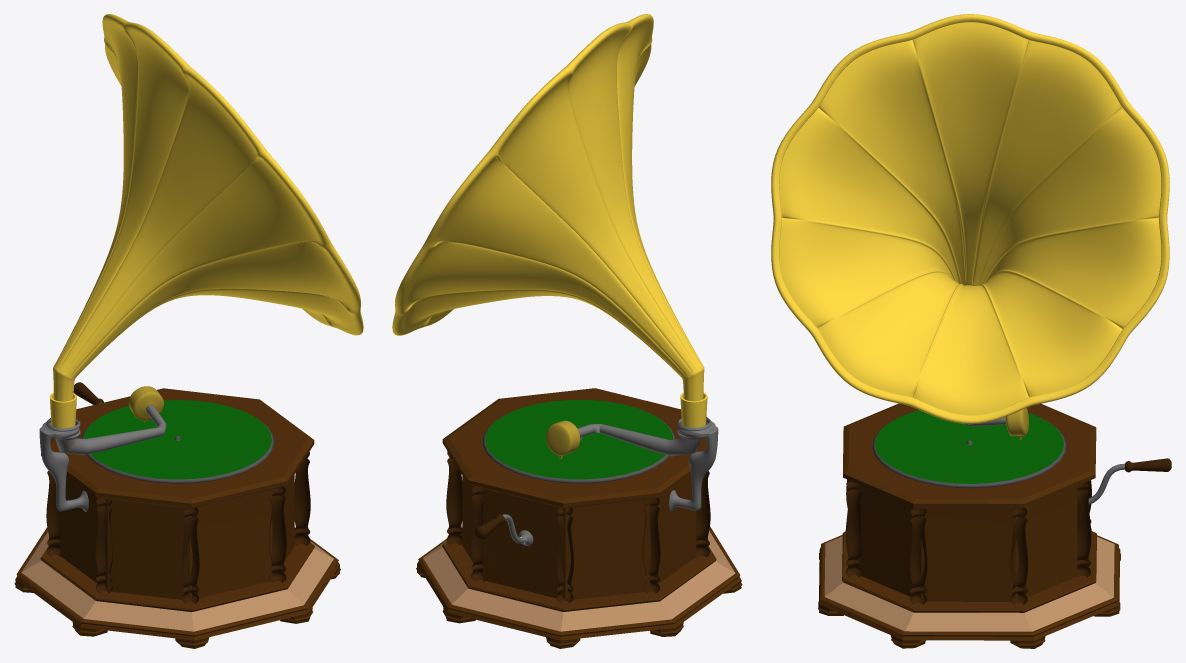
File: gramophone.glb
3 renders of one model, left to right at view 1: azimuth 30°, elevation 25°; view 2: azimuth 150°, elevation 25°; view 3: azimuth 270°, elevation 25°, orthographic.
Parts seen in each view (by area): view 1: tolcser, alap, lemeztarto, lejatszo_2, Circle.009, Circle.011, Circle.008, lejatszo_tu, Circle.015, Circle.014; view 2: tolcser, alap, lemeztarto, lejatszo_2, Circle.010, lejatszo_tu, Circle.014, Circle.012, Circle.013, Circle.015; view 3: tolcser, alap, lemeztarto, Circle.009, Circle.010, Circle.008, Circle.012, lejatszo_tu.
Part boxes in pixels (x1,y1,x2,y2): tolcser: (49, 14, 363, 428); alap: (14, 388, 340, 648); lemeztarto: (81, 400, 274, 483); lejatszo_2: (55, 427, 163, 454); Circle.009: (269, 486, 286, 582); Circle.011: (181, 507, 199, 603); Circle.008: (294, 452, 310, 545); lejatszo_tu: (128, 386, 166, 432); Circle.015: (95, 497, 113, 593); Circle.014: (46, 470, 61, 556); tolcser: (392, 14, 707, 427); alap: (416, 388, 742, 648); lemeztarto: (482, 400, 675, 483); lejatszo_2: (599, 424, 701, 456); Circle.010: (446, 451, 462, 545); lejatszo_tu: (546, 420, 600, 459); Circle.014: (642, 497, 660, 593); Circle.012: (470, 486, 488, 582); Circle.013: (556, 507, 573, 603); Circle.015: (695, 471, 710, 557); tolcser: (771, 14, 1169, 424); alap: (818, 403, 1120, 648); lemeztarto: (872, 410, 1066, 488); Circle.009: (845, 480, 863, 577); Circle.010: (1010, 508, 1028, 605); Circle.008: (909, 507, 927, 604); Circle.012: (1074, 481, 1091, 577); lejatszo_tu: (963, 408, 1028, 440).
Bounding box in the file's own units: 0.5859 × 1.12 × 0.7302.
